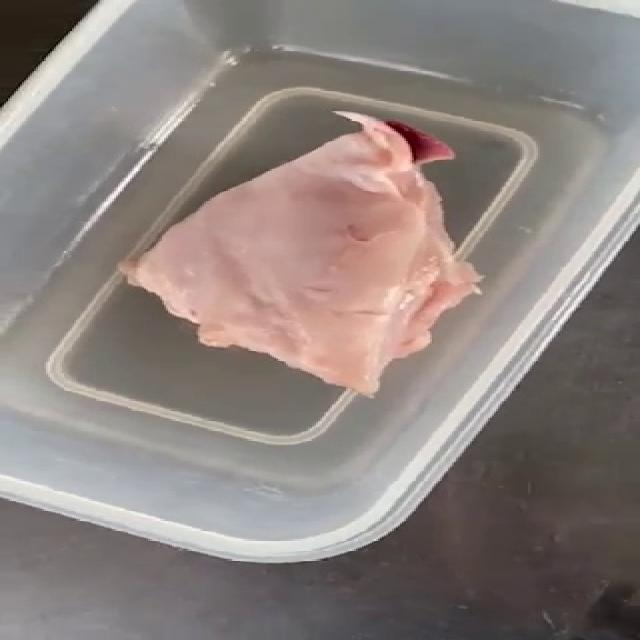chicken: (126, 119, 484, 390)
